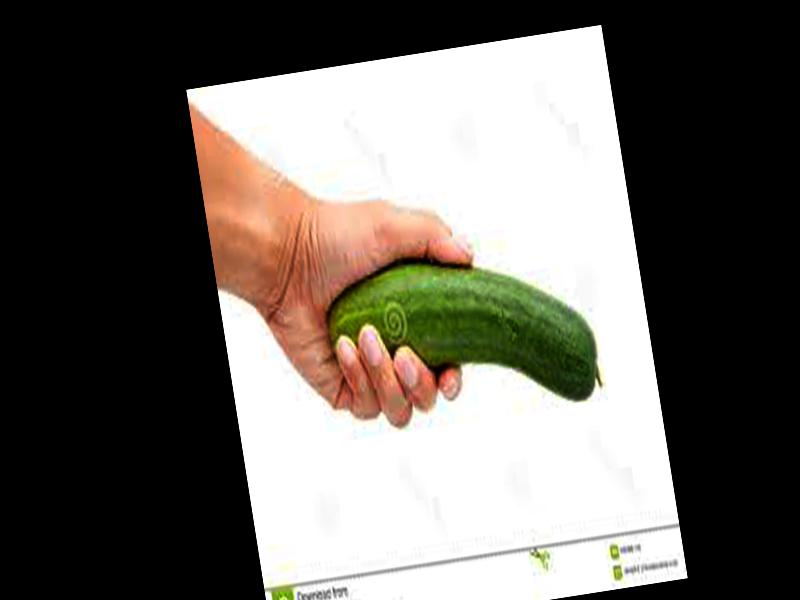Cucumber: (321, 239, 605, 438)
